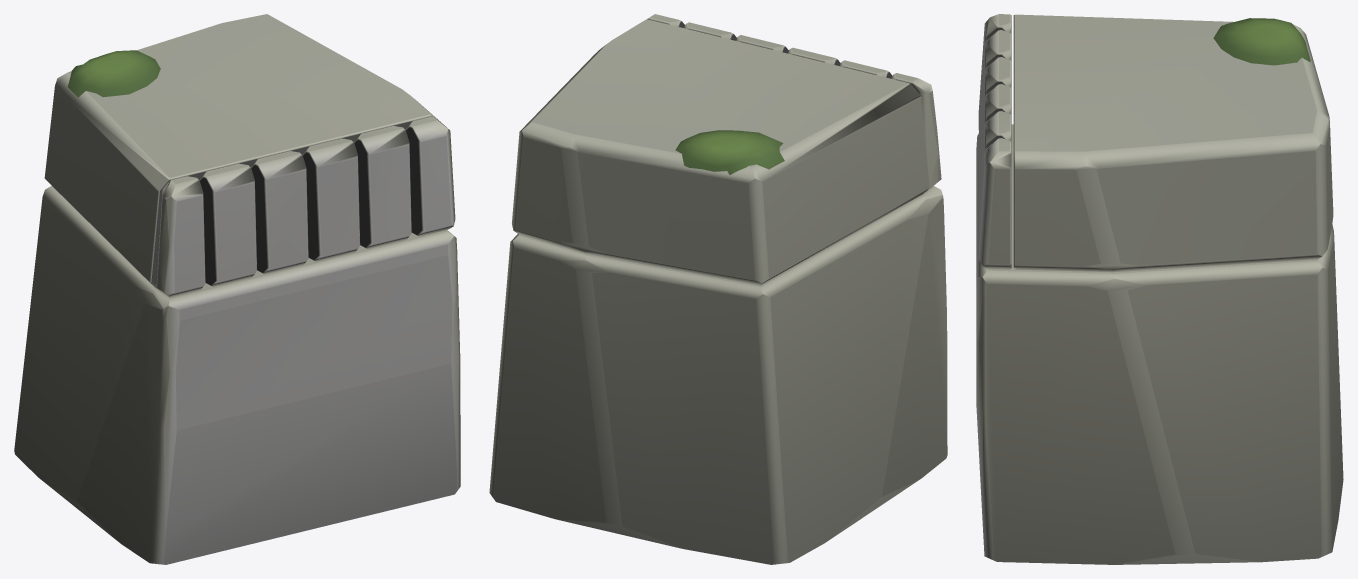
Rendered from ground_quarry.glb.
3 views of the same model, side by side, from view 1: azimuth 30°, elevation 25°; view 2: azimuth 150°, elevation 25°; view 3: azimuth 270°, elevation 25° (orthographic). The views are drawn at different scales.
Parts seen in each view (by area): view 1: ground_quarry_LOD0; view 2: ground_quarry_LOD0; view 3: ground_quarry_LOD0.
Part boxes in pixels (box(x1,y1,x2,y2)): ground_quarry_LOD0: box(14, 14, 460, 564); ground_quarry_LOD0: box(489, 14, 947, 564); ground_quarry_LOD0: box(976, 14, 1343, 564).
Size of what is drawn, in the model's own units: 0.897 by 1.02 by 0.8229.
